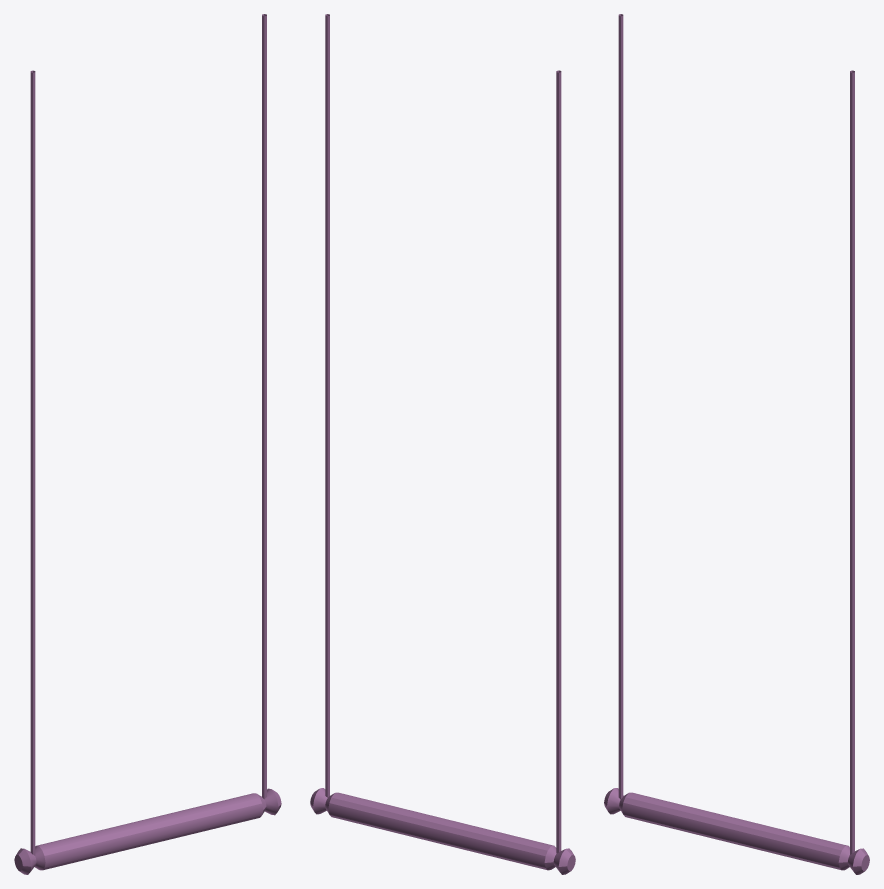
Rendered from Trapeze.fbx.
3 renders of one model, left to right at view 1: azimuth 30°, elevation 25°; view 2: azimuth 150°, elevation 25°; view 3: azimuth 330°, elevation 25°, orthographic.
Parts seen in each view (by area): view 1: polySurface151; view 2: polySurface151; view 3: polySurface151.
Boxes of the visible parts, bbox=[...] form: polySurface151: bbox=[14, 14, 281, 874]; polySurface151: bbox=[310, 14, 575, 874]; polySurface151: bbox=[604, 14, 869, 874].
Bounding box in the file's own units: 2.59 × 7.69 × 0.2583.
